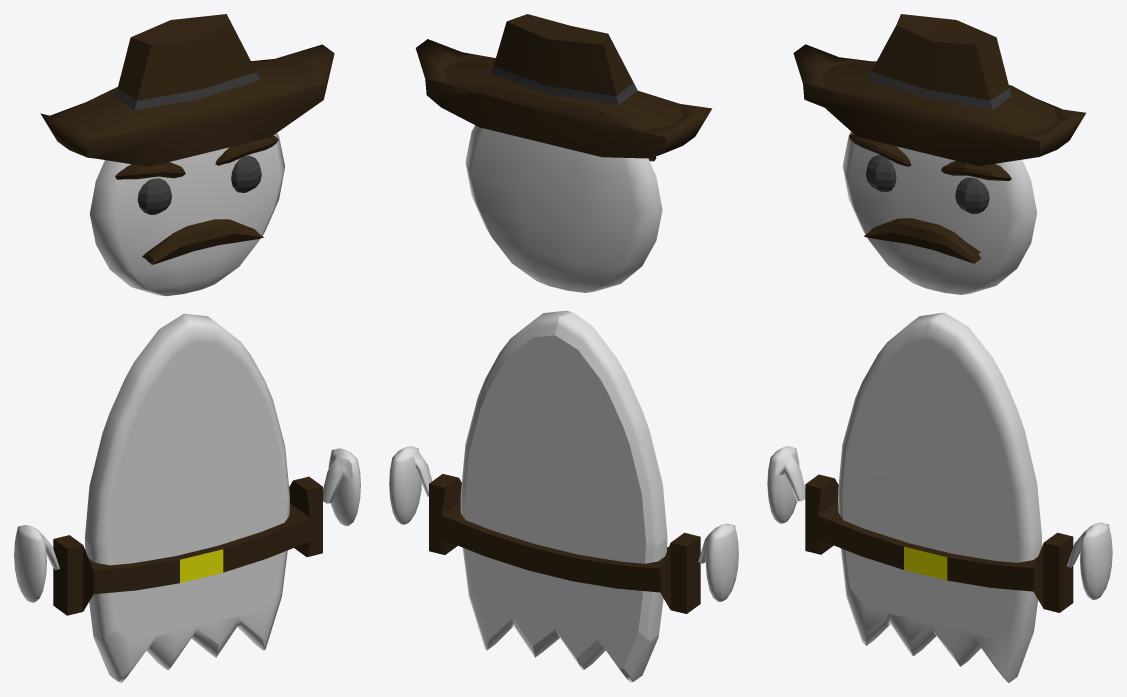
File: JimboyCalloway.fbx
The picture shows the model from 3 angles, left to right: view 1: azimuth 30°, elevation 25°; view 2: azimuth 150°, elevation 25°; view 3: azimuth 330°, elevation 25°; orthographic projection.
Visible parts, largest first — view 1: pCylinder2; view 2: pCylinder2; view 3: pCylinder2.
Part boxes in pixels (left/top/right/bottom): pCylinder2: left=14, top=14, right=360, bottom=682; pCylinder2: left=389, top=14, right=738, bottom=682; pCylinder2: left=767, top=14, right=1112, bottom=682.
Size of the model in its own units: 14.98 by 26.97 by 3.51.
